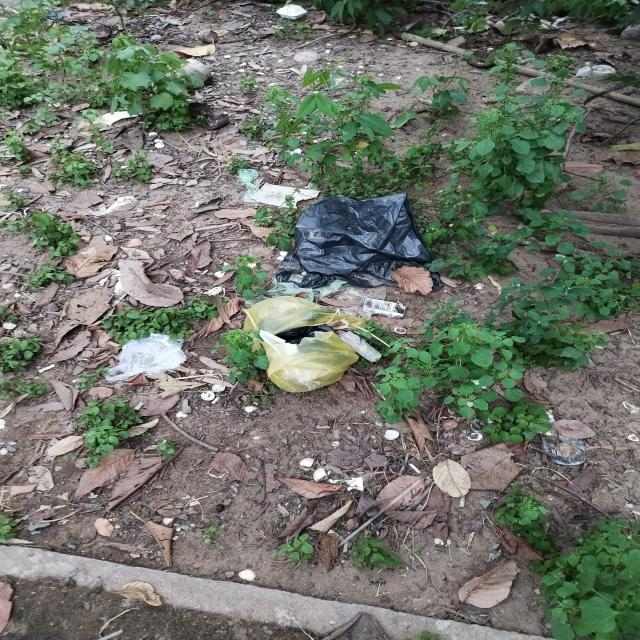bag: (275, 192, 444, 293), (105, 332, 187, 384)
cardboard box: (362, 298, 408, 318)
trash bag: (241, 296, 382, 392)
